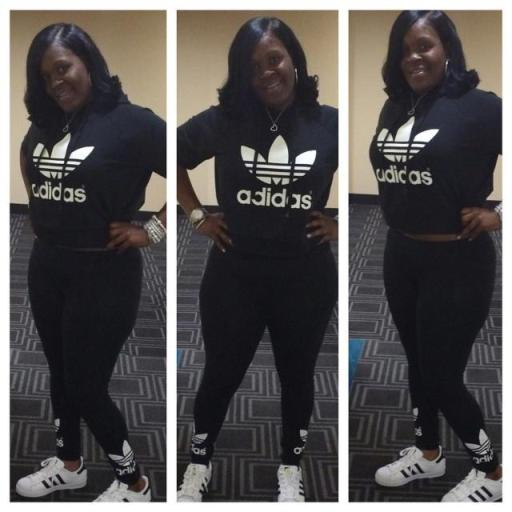Adidas: (234, 136, 316, 212)
